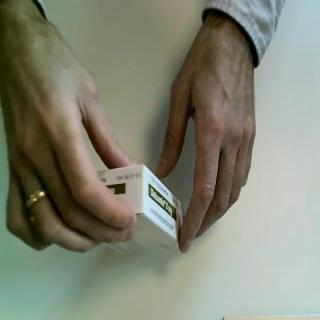dolcontin5mg: (97, 162, 187, 262)
